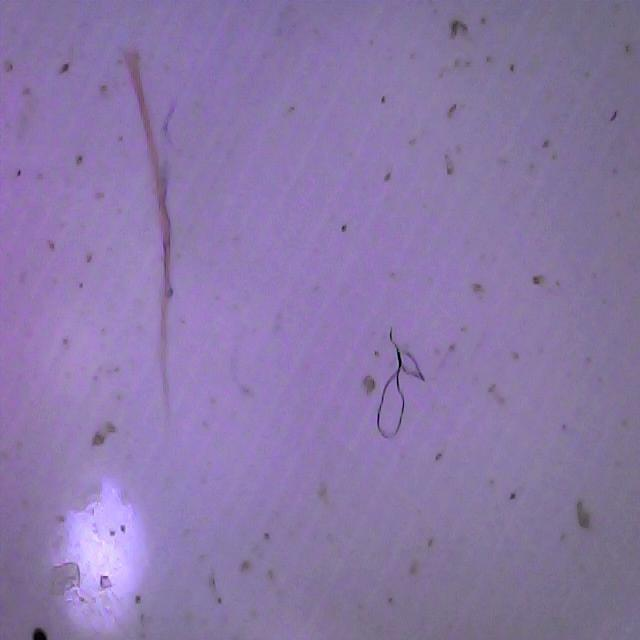fibers: (124, 47, 180, 417)
